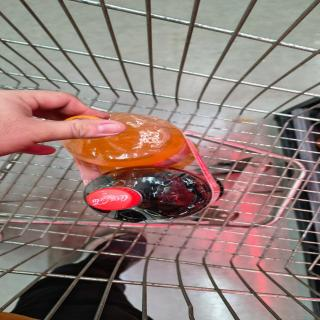beverage: (73, 168, 210, 221)
